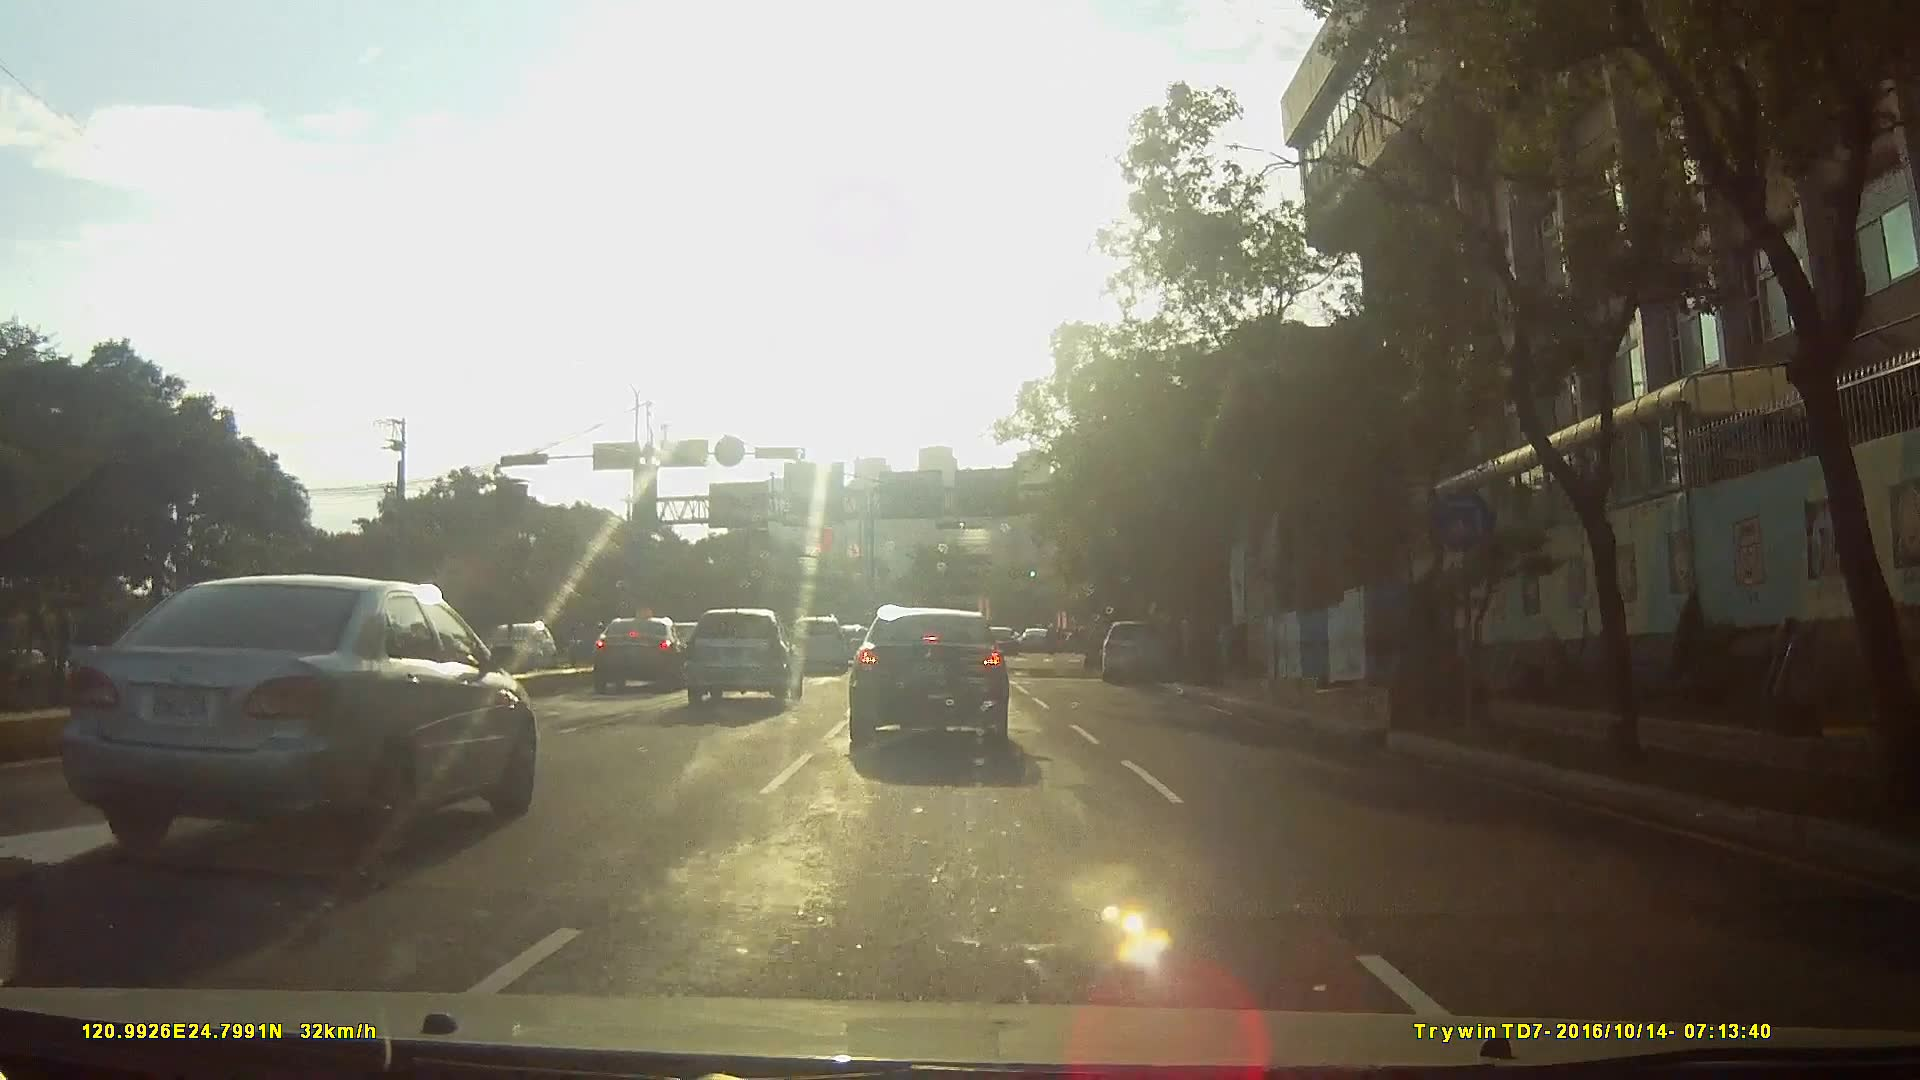vehicle: (55, 556, 546, 872), (840, 604, 1025, 767), (678, 601, 803, 705), (572, 609, 680, 690), (469, 611, 556, 675), (1102, 613, 1178, 680), (785, 611, 849, 671), (1018, 621, 1060, 649)
